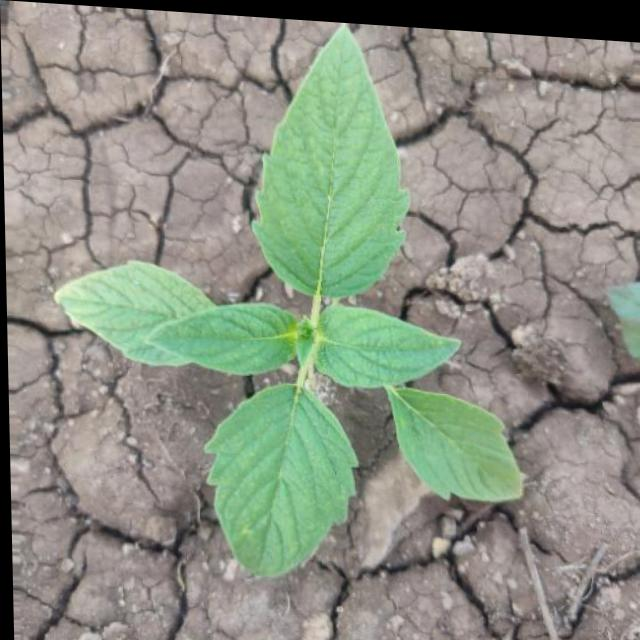crop: (40, 3, 544, 598)
